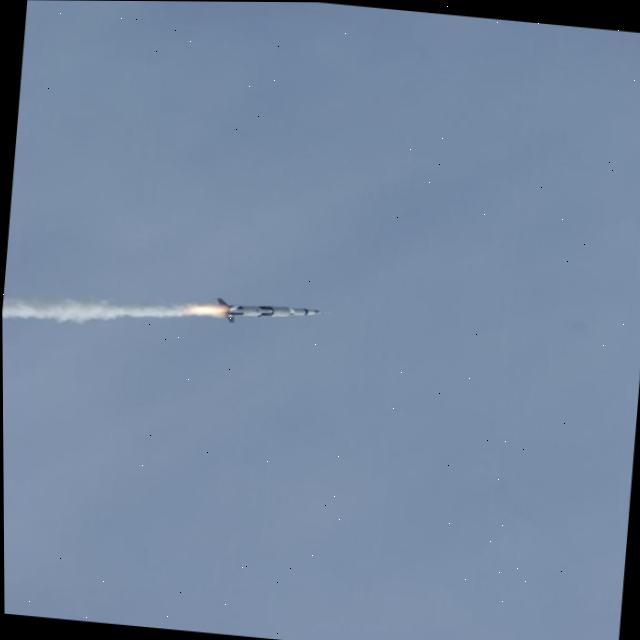missile: (214, 286, 321, 331)
